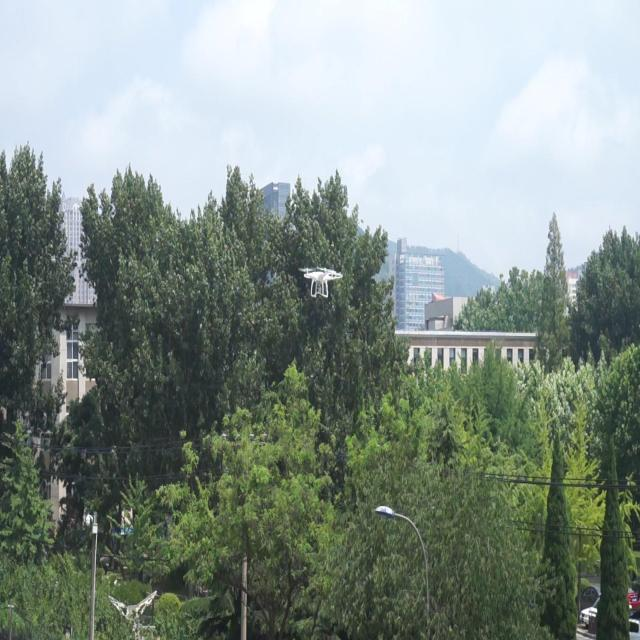drone: (299, 262, 343, 305)
